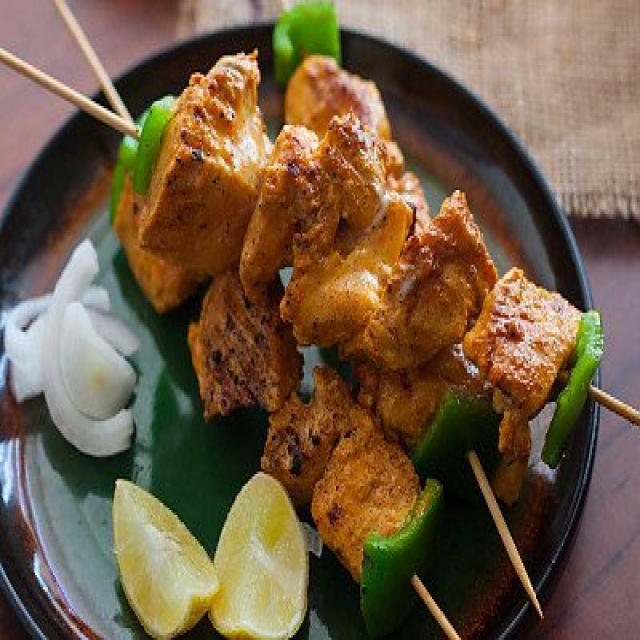Chicken Tikka: (107, 48, 603, 640)
